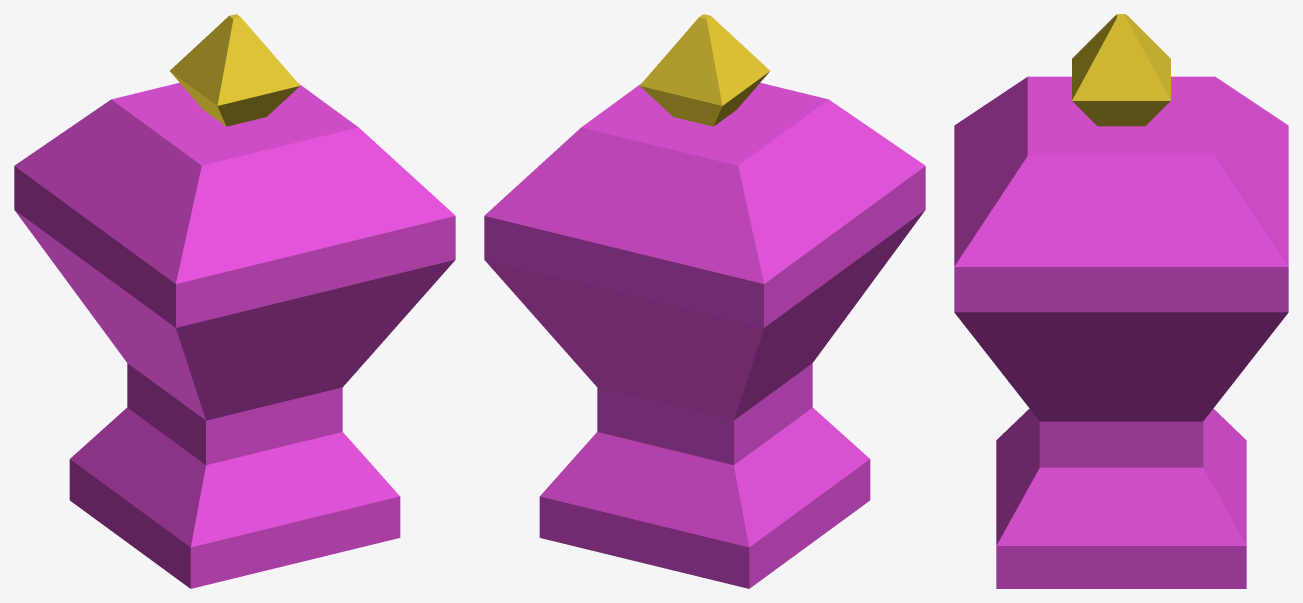
The model's file is lvl_1.fbx.
The picture shows the model from 3 angles, left to right: view 1: azimuth 30°, elevation 25°; view 2: azimuth 150°, elevation 25°; view 3: azimuth 270°, elevation 25°; orthographic projection. The views are drawn at different scales.
Parts seen in each view (by area): view 1: Cube.001, Cube; view 2: Cube.001, Cube; view 3: Cube.001, Cube.
Part boxes in pixels (x1,y1,x2,y2): Cube.001: (14, 82, 455, 588); Cube: (170, 14, 300, 126); Cube.001: (484, 82, 925, 588); Cube: (639, 14, 769, 126); Cube.001: (954, 76, 1288, 588); Cube: (1072, 14, 1170, 126).
Bounding box in the file's own units: 267 × 267 × 459.
